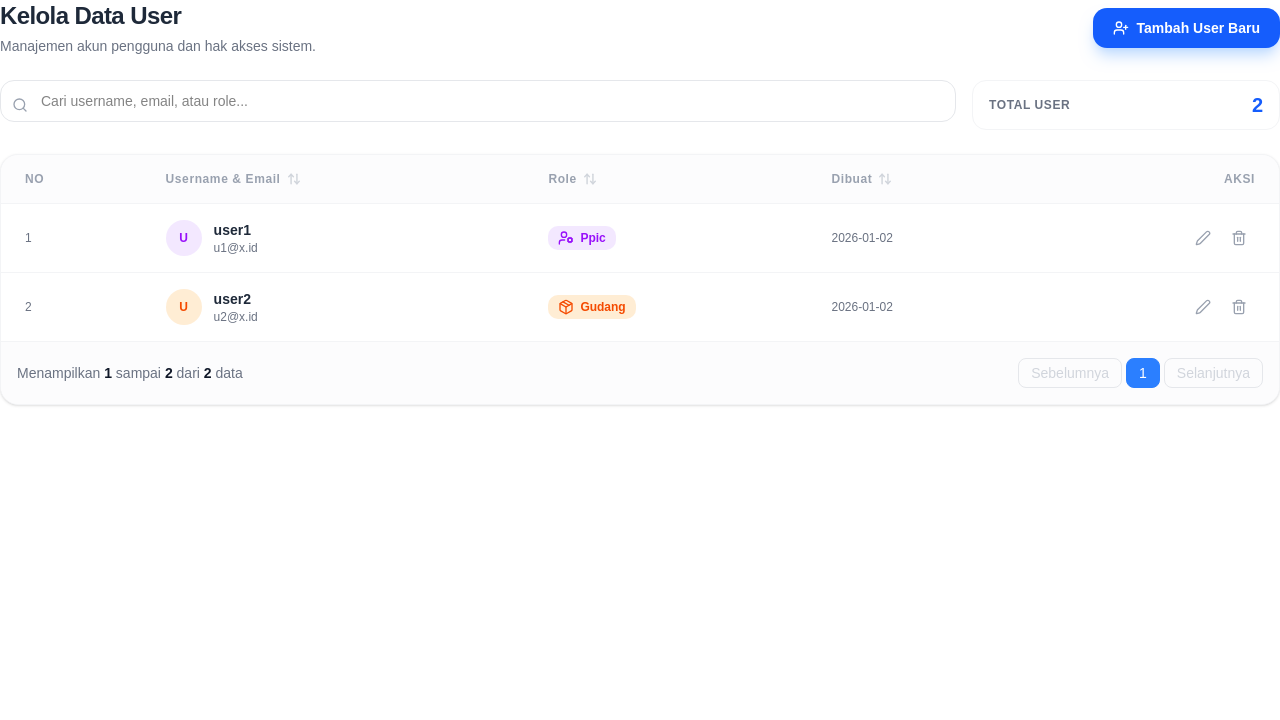
Test: Users form › username is lowercased with whitespace removed
Check: the text "user1" is shown, box [214,222,251,238]
Click the button "Tambah User Baru" at x=1186, y=28, box [1092,8,1279,48]
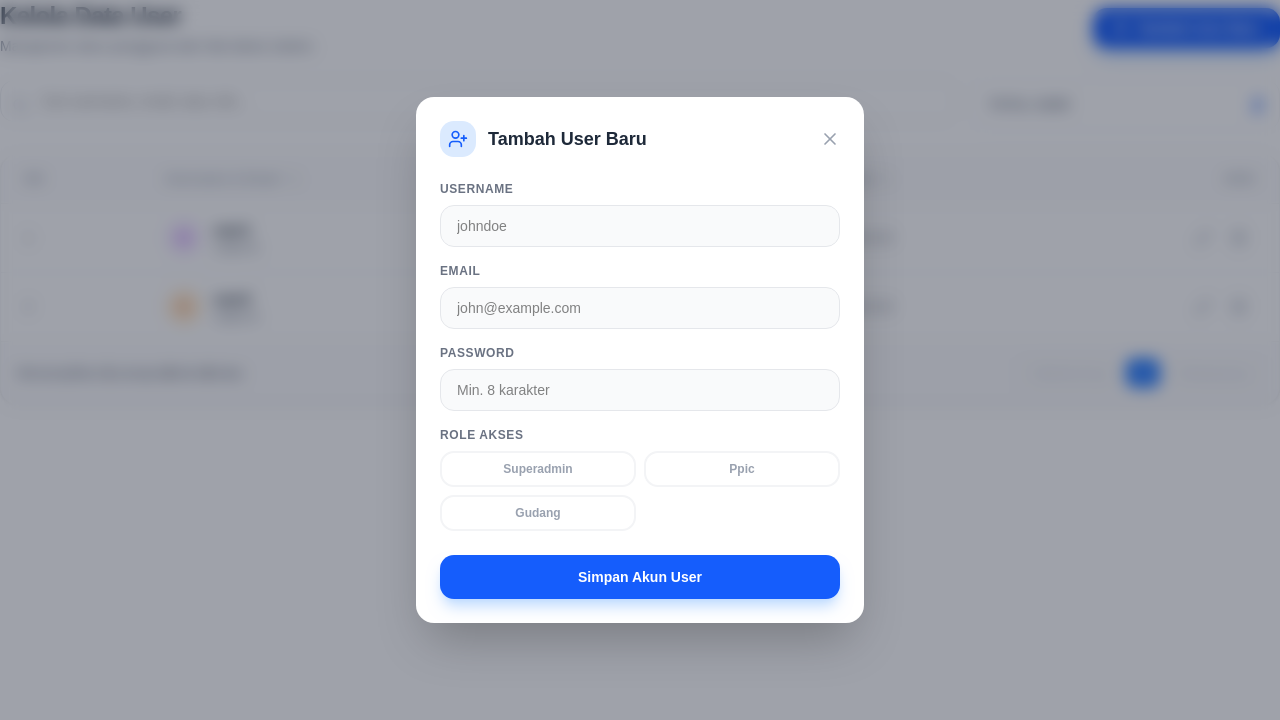
Check: the heading "Tambah User Baru" is shown, box [488,125,647,153]
Check: the button "gudang" is shown, box [440,495,636,531]
Type "John Doe" into the field with placeholder "johndoe" at x=640, y=226, box [440,205,840,247]
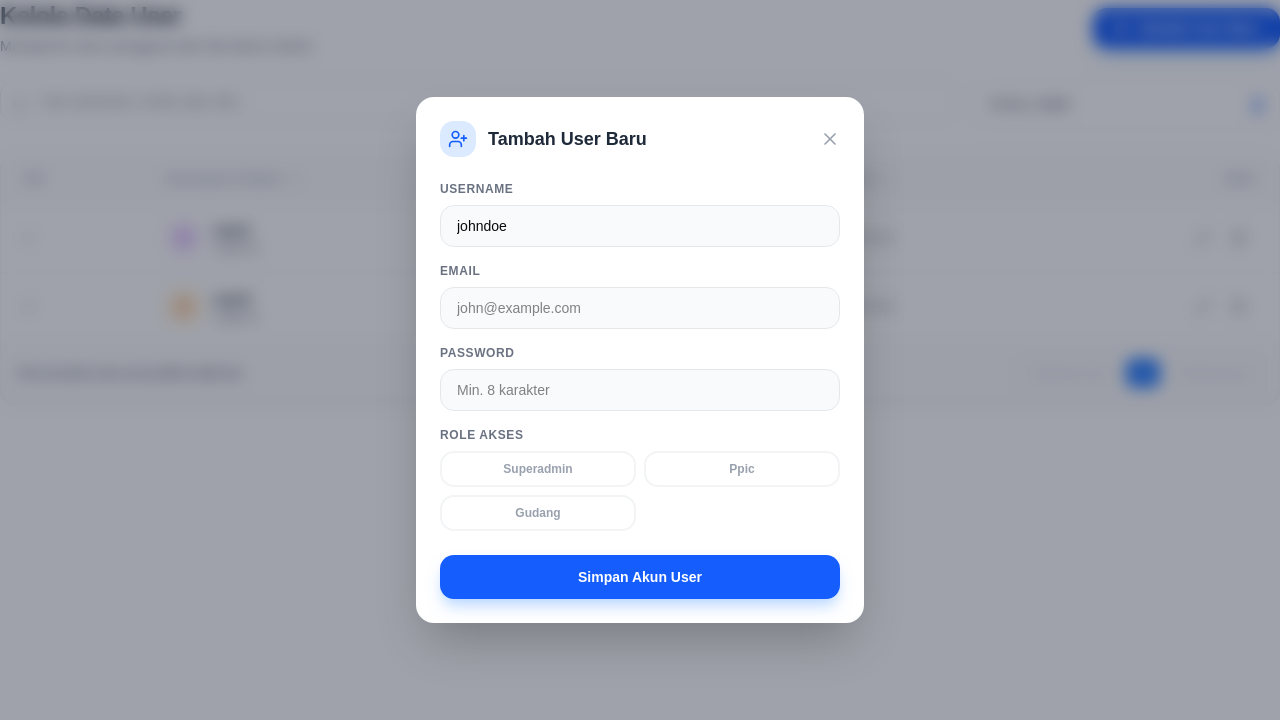
Check: the field with placeholder "johndoe" holds "johndoe", box [440,205,840,247]
